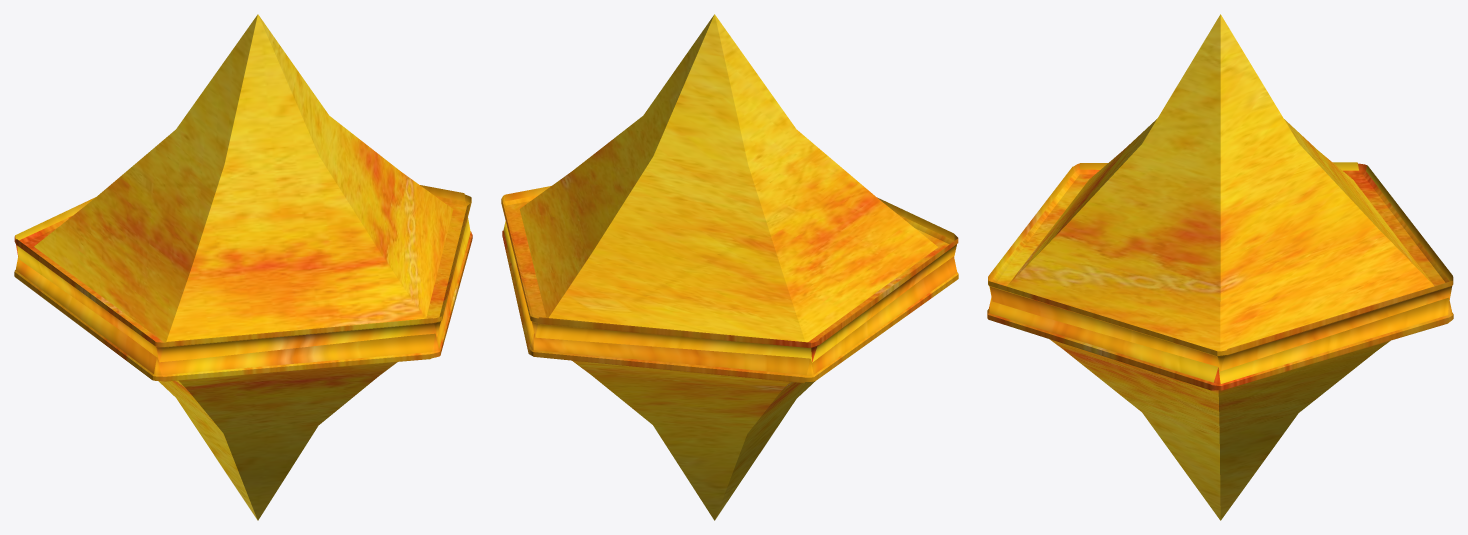
Rendered from six.obj.
The picture shows the model from 3 angles, left to right: view 1: azimuth 30°, elevation 25°; view 2: azimuth 150°, elevation 25°; view 3: azimuth 270°, elevation 25°; orthographic projection.
Visible parts, largest first — view 1: pPyramid1, pPyramid2; view 2: pPyramid1, pPyramid2; view 3: pPyramid1, pPyramid2.
Part boxes in pixels (bbox=[...]): pPyramid1: bbox=[14, 14, 471, 362]; pPyramid2: bbox=[14, 218, 472, 520]; pPyramid1: bbox=[501, 14, 958, 362]; pPyramid2: bbox=[502, 221, 958, 520]; pPyramid1: bbox=[988, 14, 1453, 371]; pPyramid2: bbox=[987, 297, 1453, 520].
Size of the model in its own units: 3.07 by 3.85 by 3.21.
Materials: 1 (1 with a texture image).
